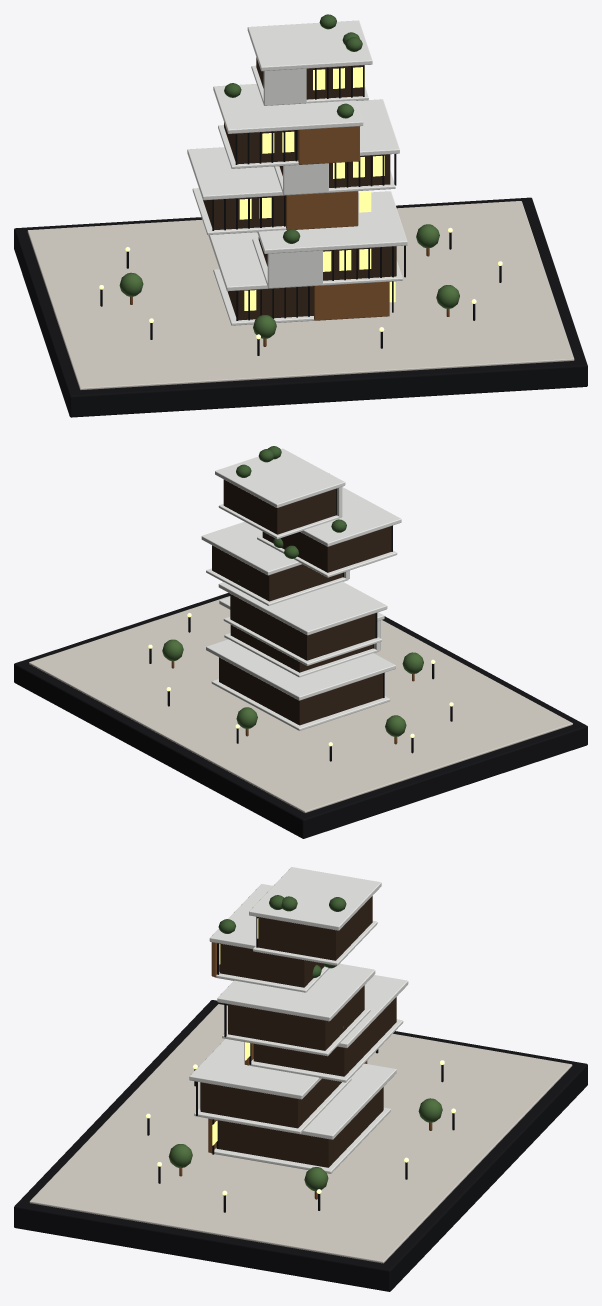
File: arch.glb
The picture shows the model from 3 angles, top to bottom: view 1: azimuth 30°, elevation 25°; view 2: azimuth 150°, elevation 25°; view 3: azimuth 270°, elevation 25°; orthographic projection. The views are drawn at different scales.
Visible parts, largest first — view 1: Cube.001, Cube, Cube.120, Cube.102, Cube.043, Cube.064, Cube.021, Cube.063, Cube.022, Cube.101, Cube.003, Cube.042 (+13 smaller); view 2: Cube.001, Cube, Cube.003, Cube.022, Cube.064, Cube.120, Cube.045, Cube.104, Cube.066, Cube.085, Cube.083, Cube.102 (+7 smaller); view 3: Cube.001, Cube, Cube.120, Cube.003, Cube.083, Cube.066, Cube.024, Cube.043, Cube.104, Cube.045, Cube.022, Cube.085 (+8 smaller).
Boxes of the visible parts, bbox=[...] form: Cube.001: bbox=[27, 201, 574, 389]; Cube: bbox=[14, 197, 587, 417]; Cube.120: bbox=[247, 20, 372, 71]; Cube.102: bbox=[213, 84, 363, 133]; Cube.043: bbox=[257, 191, 407, 253]; Cube.064: bbox=[187, 147, 357, 200]; Cube.021: bbox=[314, 281, 389, 320]; Cube.063: bbox=[286, 191, 358, 230]; Cube.022: bbox=[208, 232, 391, 291]; Cube.101: bbox=[298, 126, 359, 164]; Cube.003: bbox=[227, 286, 313, 320]; Cube.042: bbox=[267, 250, 322, 288]; Cube.001: bbox=[29, 596, 572, 813]; Cube: bbox=[14, 593, 587, 838]; Cube.003: bbox=[219, 657, 382, 725]; Cube.022: bbox=[206, 639, 395, 700]; Cube.064: bbox=[218, 581, 387, 635]; Cube.120: bbox=[215, 448, 345, 507]; Cube.045: bbox=[230, 594, 375, 660]; Cube.104: bbox=[223, 479, 336, 534]; Cube.066: bbox=[212, 545, 342, 601]; Cube.085: bbox=[262, 526, 391, 572]; Cube.083: bbox=[201, 521, 302, 575]; Cube.102: bbox=[300, 487, 401, 546]; Cube.001: bbox=[29, 1004, 572, 1263]; Cube: bbox=[14, 1000, 587, 1291]; Cube.120: bbox=[249, 867, 381, 930]; Cube.003: bbox=[218, 1087, 383, 1167]; Cube.083: bbox=[217, 963, 375, 1021]; Cube.066: bbox=[228, 985, 364, 1050]; Cube.024: bbox=[200, 1078, 341, 1128]; Cube.043: bbox=[189, 1039, 321, 1099]; Cube.104: bbox=[258, 896, 372, 960]; Cube.045: bbox=[253, 997, 396, 1076]; Cube.022: bbox=[215, 1063, 396, 1139]; Cube.085: bbox=[220, 943, 324, 987].
Bounding box in the file's own units: 1.58 × 0.7636 × 1.41.
